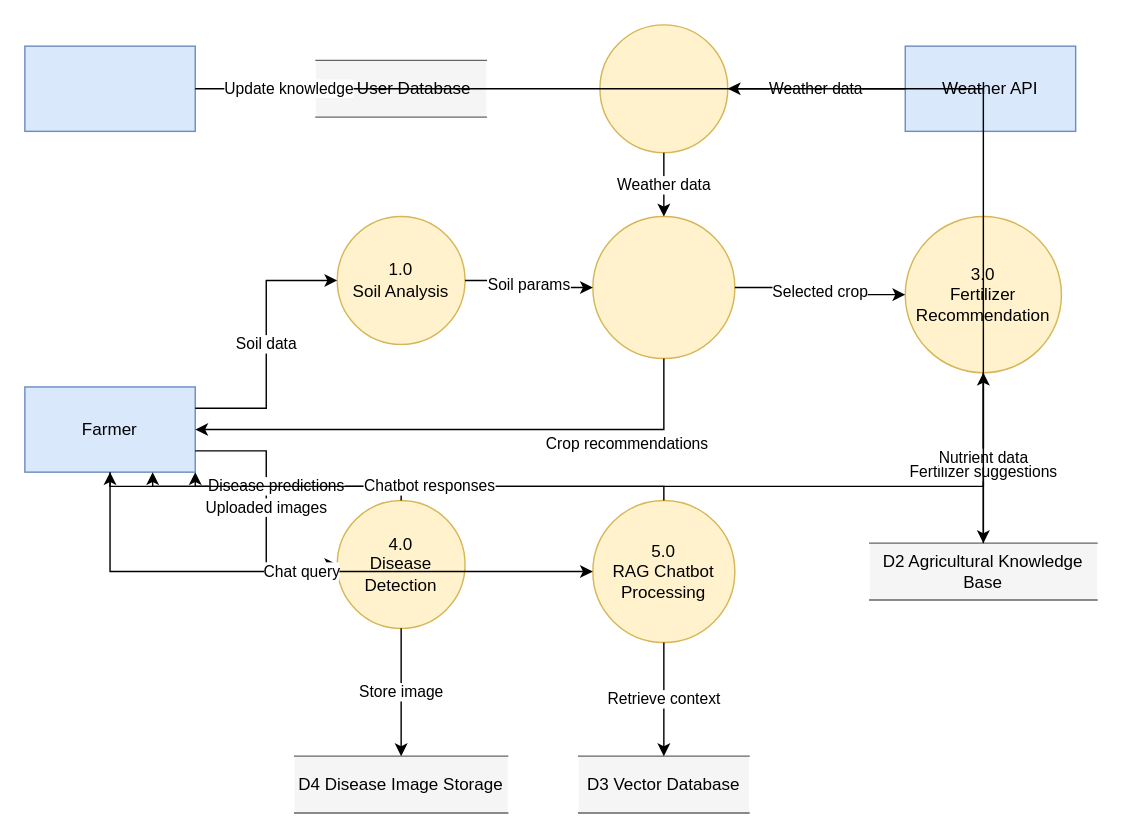
Some shapes in this 1122 by 838 pixel diagram are drawn without their labels. The shapes that lost their labels are listed below. From the top down, each one's centre as x and y in pixels, then its label:
(x=109, y=88): Admin
(x=663, y=88): 6.0 Weather Data Retrieval
(x=663, y=287): 2.0 Crop Recommendation
